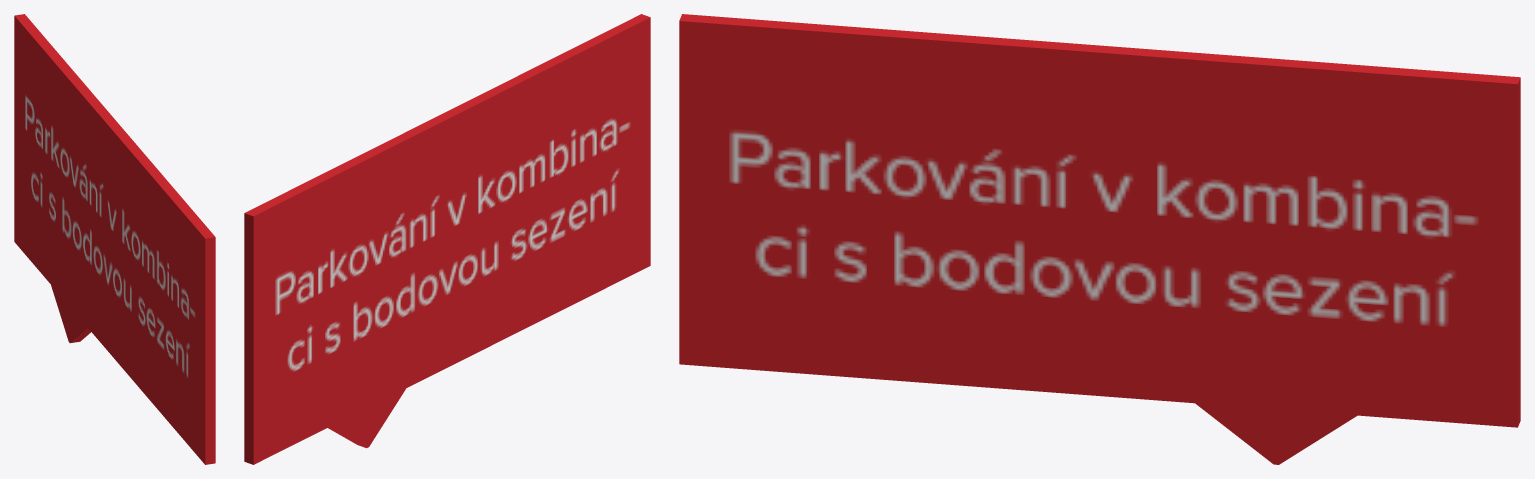
The model's file is sign1.glb.
The picture shows the model from 3 angles, left to right: view 1: azimuth 30°, elevation 25°; view 2: azimuth 150°, elevation 25°; view 3: azimuth 270°, elevation 25°; orthographic projection. The views are drawn at different scales.
Visible parts, largest first — view 1: sign_1_parkovani; view 2: sign_1_parkovani; view 3: sign_1_parkovani.
Part boxes in pixels (x1=…): sign_1_parkovani: x1=14, y1=14, x2=215, y2=464; sign_1_parkovani: x1=244, y1=14, x2=650, y2=464; sign_1_parkovani: x1=679, y1=14, x2=1520, y2=464.
Size of the model in its own units: 0.3094 by 0.8188 by 1.57.
Materials: 1 (1 with a texture image).
